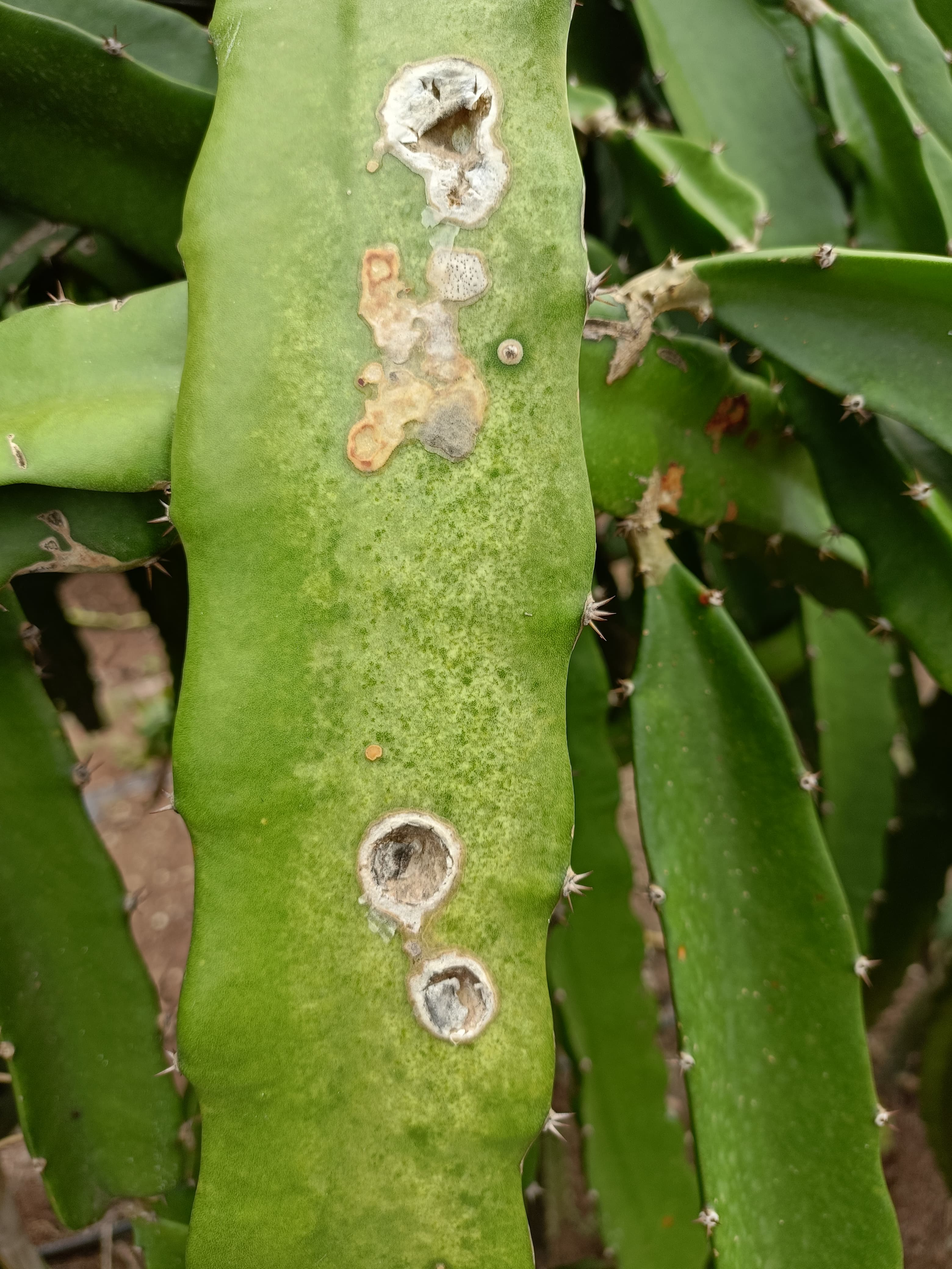stemcanker: (352, 805, 501, 1056), (342, 242, 494, 481), (367, 47, 522, 233)
